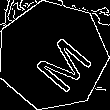M_NW: (18, 22, 87, 90)
